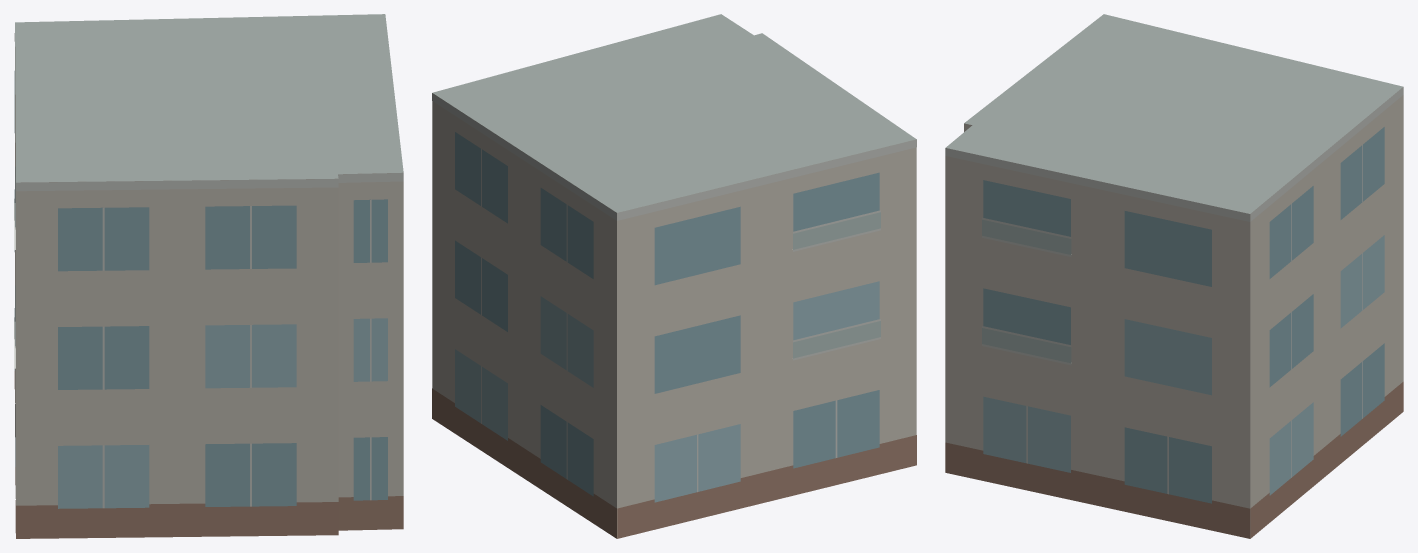
The model's file is survey-upis-32666246.glb.
3 views of the same model, side by side, from view 1: azimuth 30°, elevation 25°; view 2: azimuth 150°, elevation 25°; view 3: azimuth 270°, elevation 25° (orthographic). The views are drawn at different scales.
Visible parts, largest first — view 1: survey-upis-32666246.tmp; view 2: survey-upis-32666246.tmp; view 3: survey-upis-32666246.tmp.
Part boxes in pixels (left/top/right/bottom): survey-upis-32666246.tmp: left=14, top=14, right=403, bottom=538; survey-upis-32666246.tmp: left=432, top=14, right=916, bottom=538; survey-upis-32666246.tmp: left=945, top=14, right=1403, bottom=538.
Bounding box in the file's own units: 13.08 × 9.9 × 12.66.
